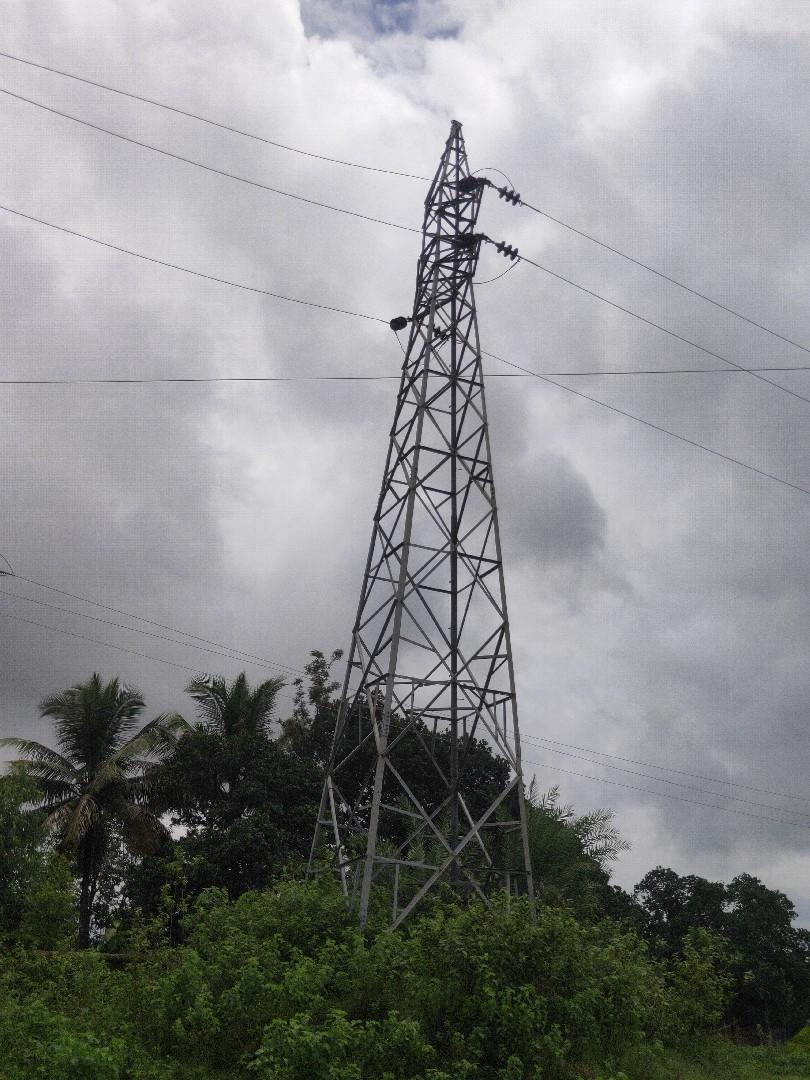GSM Antenna: (299, 117, 539, 892)
